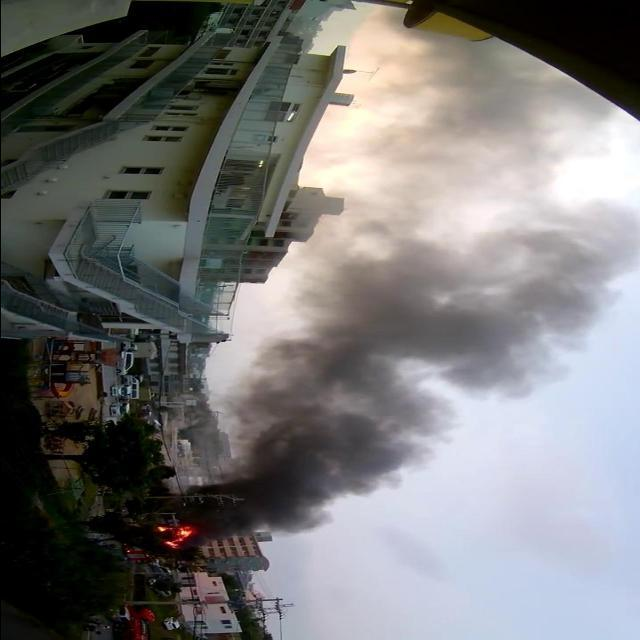Fire: (154, 526, 192, 550)
